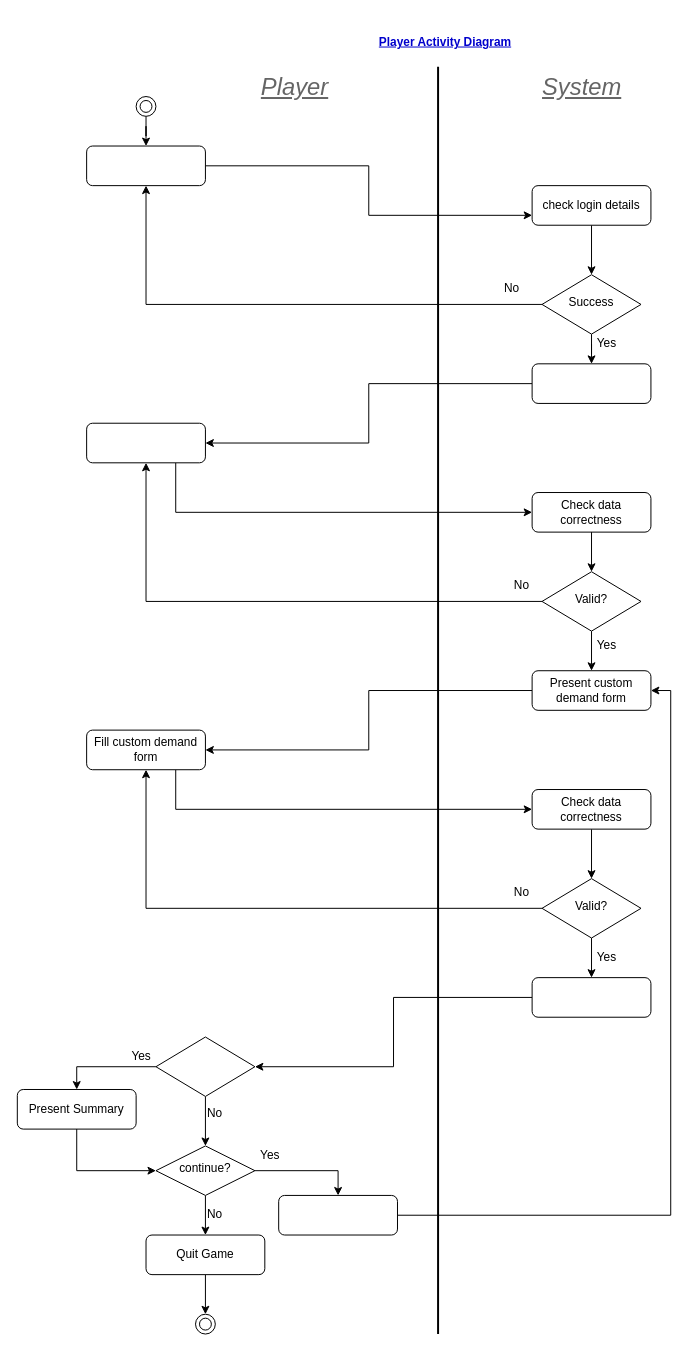
Some shapes in this 696 by 1351 pixel diagram are drawn without their labels. Each missing label, with the centre of its shape:
"Fill initial and info sharing setting form" goes at [145,442].
"Login" goes at [145,165].
"Present initial and info sharing setting form" goes at [591,383].
"Present updated status" goes at [591,997].
"update period" goes at [337,1214].
"view summary?" goes at [205,1066].
